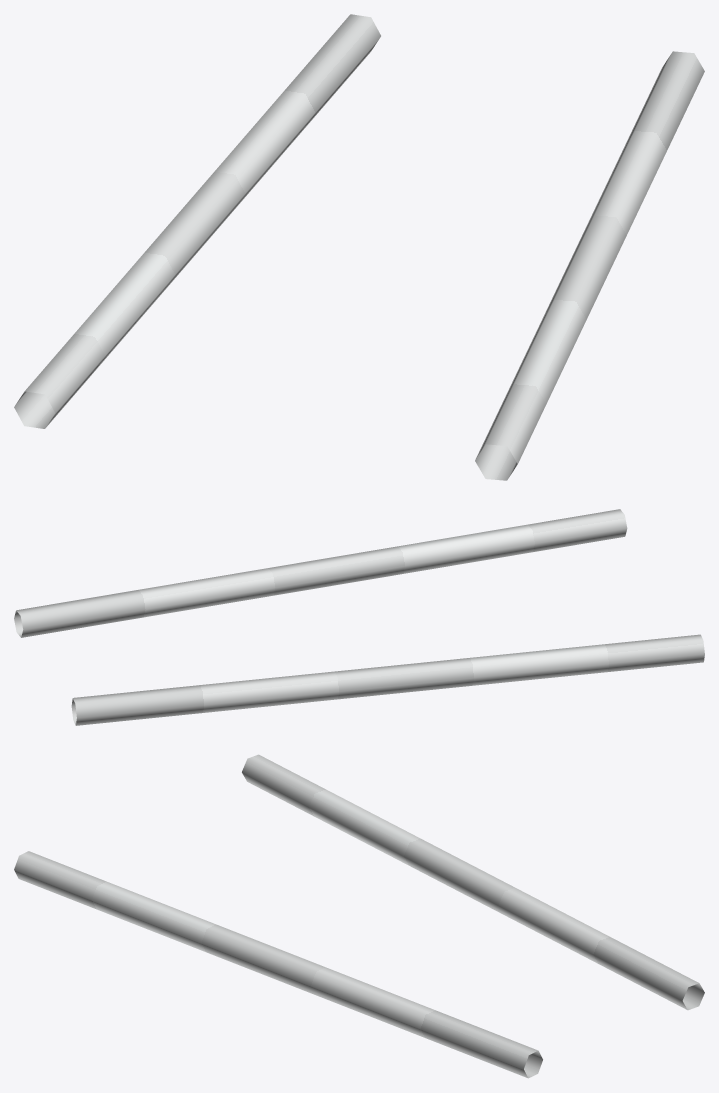
File: nycsignalarm_diagonal6_c8.obj
3 views of the same model, one above another, from view 1: azimuth 30°, elevation 25°; view 2: azimuth 150°, elevation 25°; view 3: azimuth 270°, elevation 25° (orthographic). The views are drawn at different scales.
Visible parts, largest first — view 1: nycsignalarm_diagonal6_c8; view 2: nycsignalarm_diagonal6_c8; view 3: nycsignalarm_diagonal6_c8.
Boxes of the visible parts, box(x1,y1,x2,y2) form: nycsignalarm_diagonal6_c8: box(14, 14, 704, 480); nycsignalarm_diagonal6_c8: box(14, 509, 704, 725); nycsignalarm_diagonal6_c8: box(14, 754, 704, 1078).
Bounding box in the file's own units: 1.45 × 0.0849 × 1.45.
